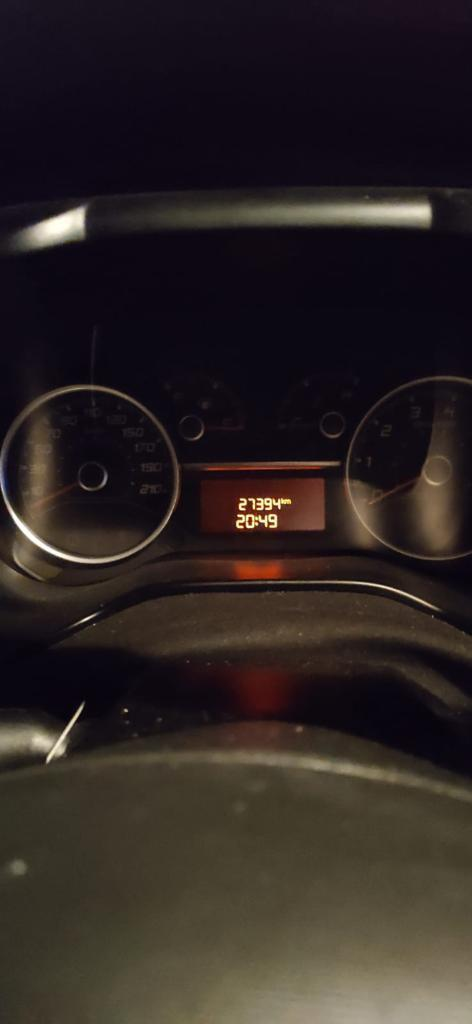0: (245, 513, 254, 528)
2: (234, 513, 244, 529), (237, 497, 247, 510)
3: (255, 497, 263, 510)
4: (258, 513, 267, 527), (272, 497, 281, 510)
7: (247, 497, 255, 509)
9: (267, 513, 278, 528), (264, 497, 272, 511)
X: (285, 498, 292, 504), (254, 516, 258, 526), (281, 497, 285, 504)
odometer: (196, 475, 328, 535)
